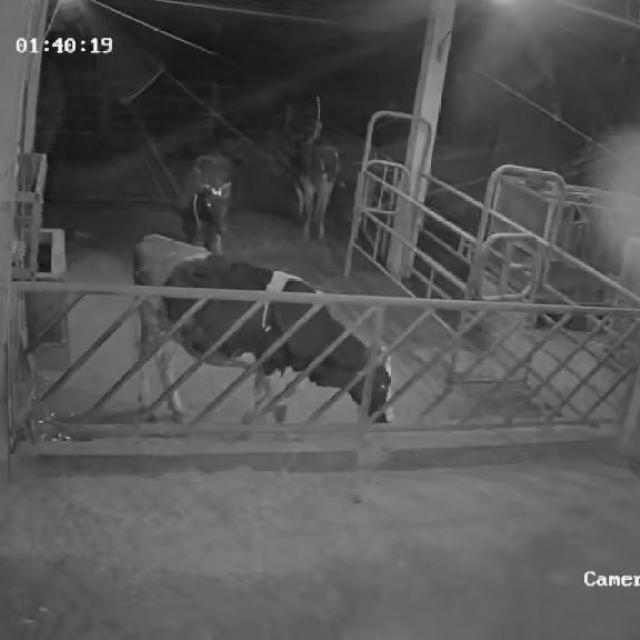standing: (124, 229, 409, 440), (277, 115, 354, 224), (170, 141, 242, 239)
